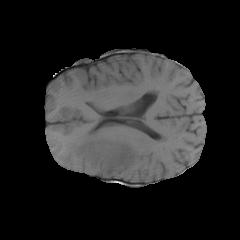glioma: (63, 128, 137, 176)
